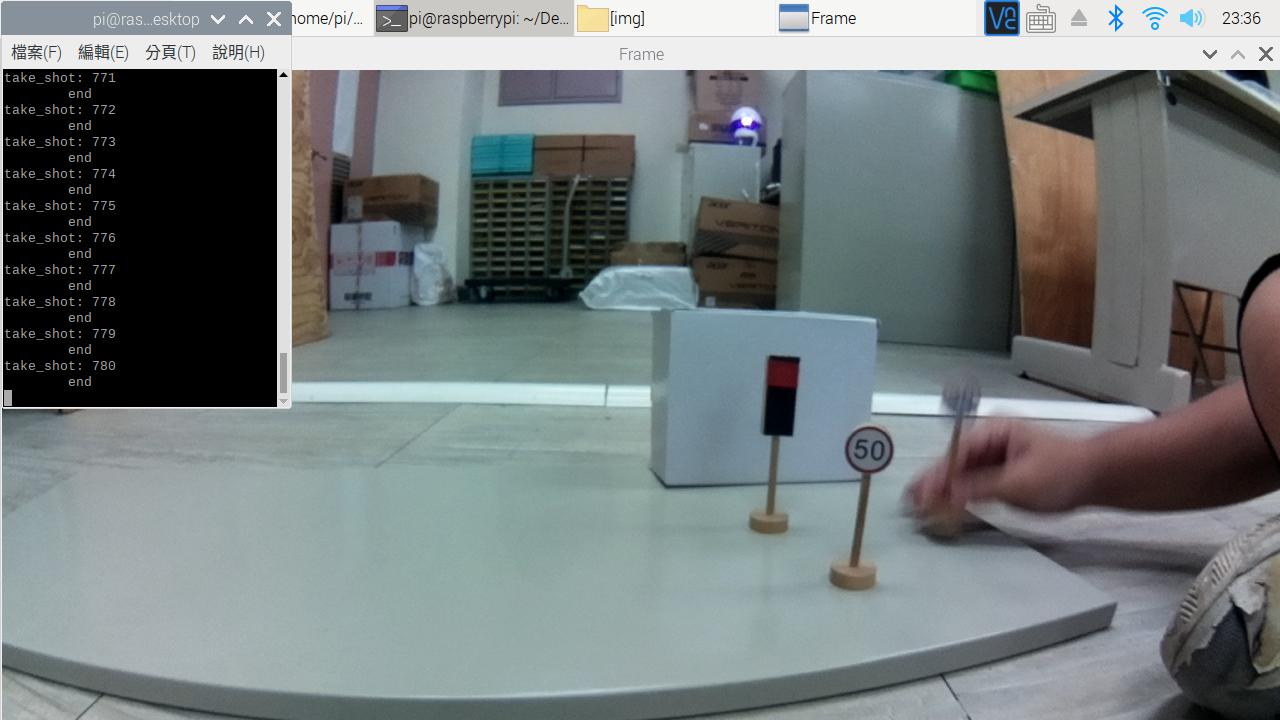Red: (759, 346, 804, 447)
Speed50: (833, 421, 900, 475)
